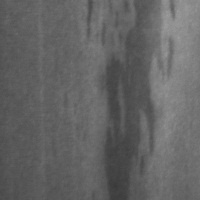inclusion: (99, 1, 178, 199), (81, 1, 98, 49)
